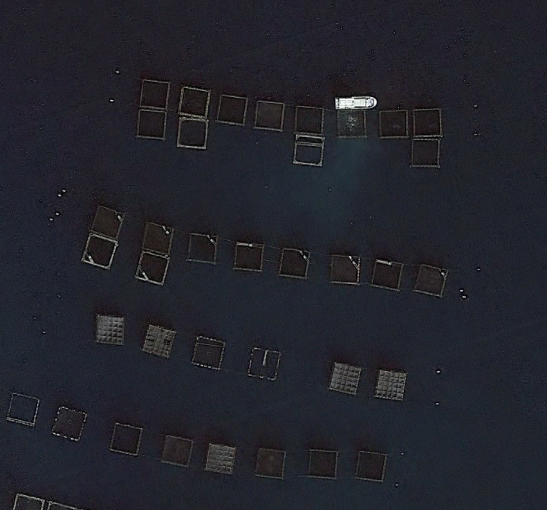ship: (333, 92, 378, 111)
square: (45, 402, 89, 447), (187, 329, 229, 374), (320, 359, 368, 398), (129, 246, 172, 289), (77, 230, 120, 272), (369, 363, 414, 403), (105, 418, 150, 458), (250, 441, 292, 482), (5, 387, 45, 430), (351, 446, 395, 485), (85, 200, 124, 243), (137, 216, 177, 257), (243, 344, 284, 384), (153, 431, 194, 471), (323, 252, 366, 290), (183, 227, 221, 269), (139, 320, 177, 362), (198, 441, 240, 479), (174, 112, 211, 155), (406, 102, 445, 142), (290, 129, 328, 170), (226, 240, 267, 277), (302, 445, 340, 483), (331, 106, 371, 142), (136, 74, 171, 115), (173, 84, 211, 121), (273, 244, 312, 280), (214, 90, 249, 130), (131, 105, 169, 141), (91, 309, 129, 345), (413, 261, 451, 296), (291, 101, 326, 137), (406, 131, 442, 166), (249, 98, 285, 132), (375, 106, 411, 140), (370, 257, 403, 293)
